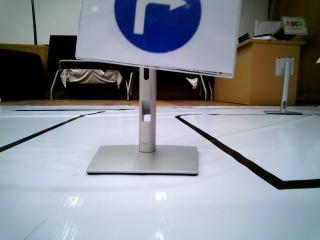right: (89, 0, 218, 70)
